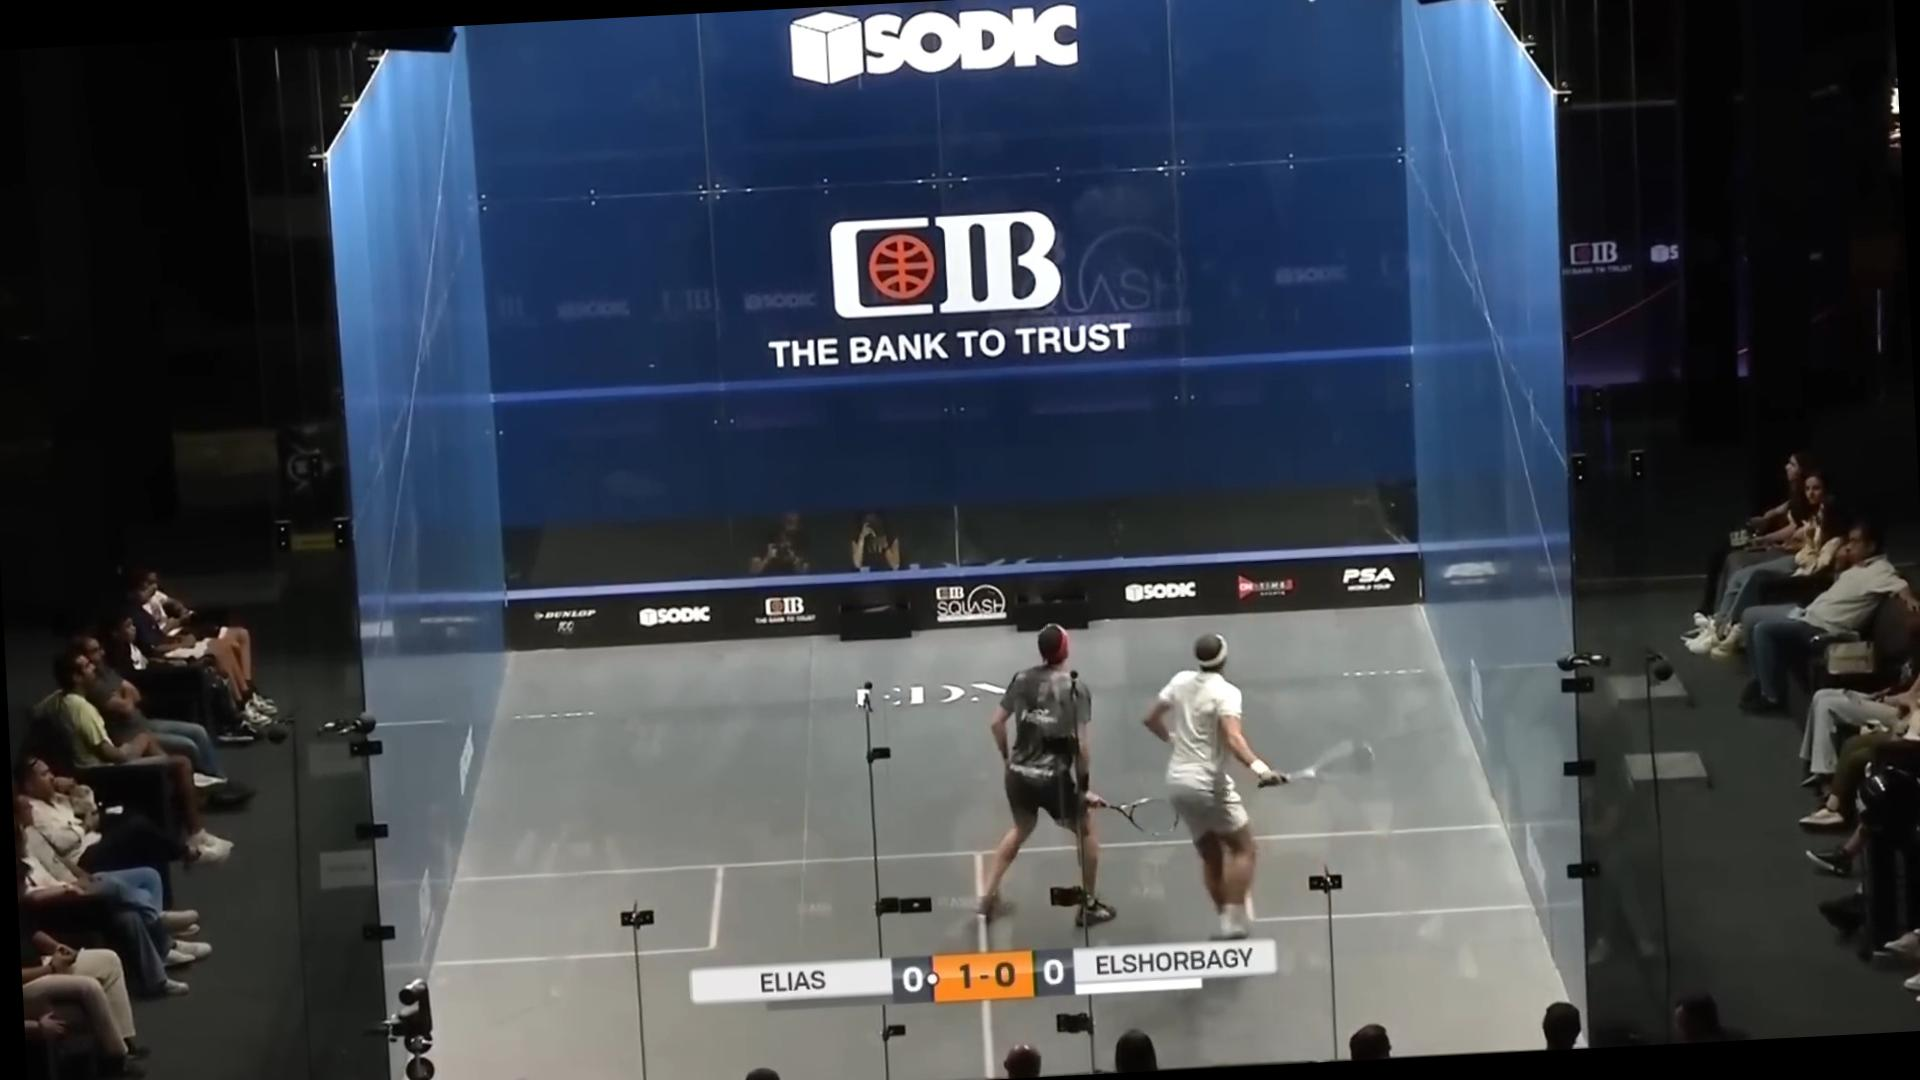Squash-Ball: (1302, 0, 1320, 9)
